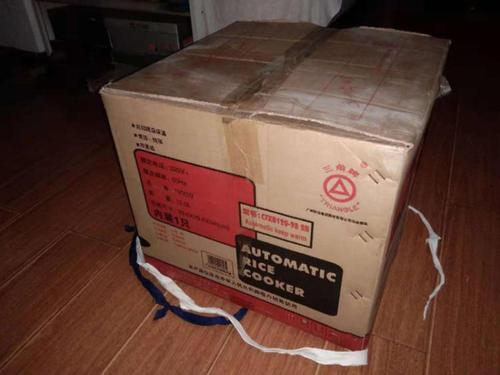cardboard: (101, 22, 448, 364)
